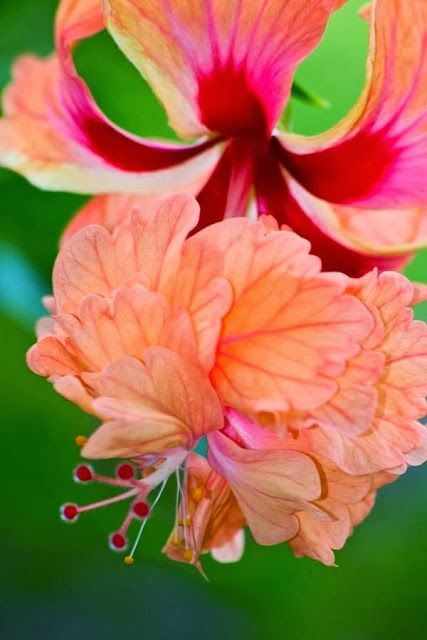Hibiscus: (4, 6, 425, 607)
